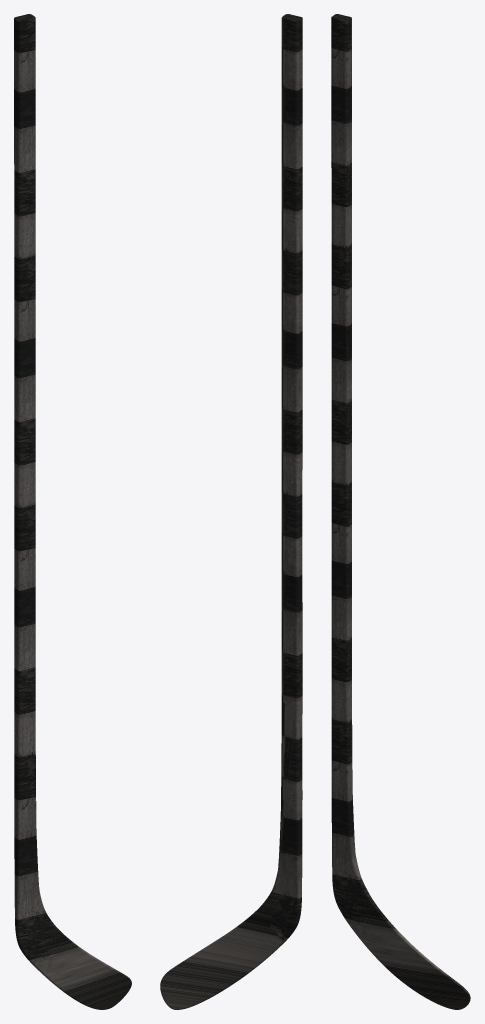
The picture shows the model from 3 angles, left to right: view 1: azimuth 30°, elevation 25°; view 2: azimuth 150°, elevation 25°; view 3: azimuth 330°, elevation 25°; orthographic projection. The views are drawn at different scales.
Visible parts, largest first — view 1: geometry_0; view 2: geometry_0; view 3: geometry_0.
Boxes of the visible parts, x1,y1,x2,y2 form: geometry_0: (14,14,131,1009); geometry_0: (160,14,302,1009); geometry_0: (331,14,470,1009).
Size of the model in its own units: 218 by 1650 by 62.36.
1 material, 1 textured.
